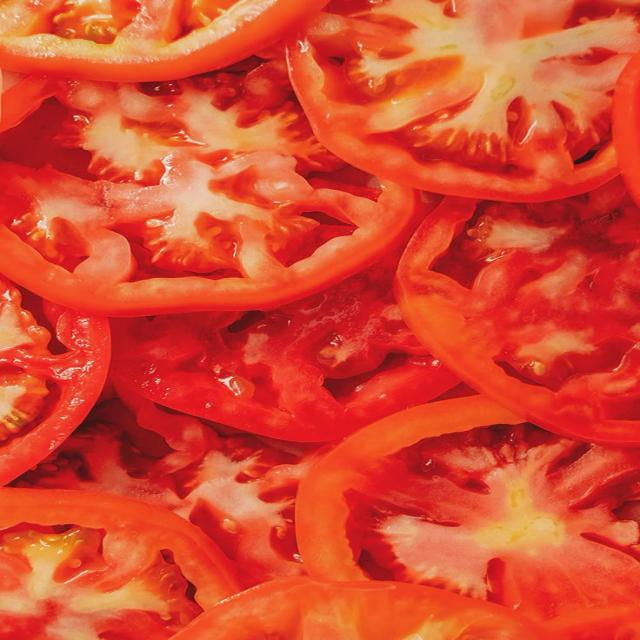sliced_tomato: (0, 62, 427, 315), (296, 396, 639, 619), (289, 0, 639, 201), (113, 254, 458, 441), (399, 179, 639, 444), (14, 394, 315, 584), (0, 488, 239, 639), (0, 0, 326, 81), (175, 578, 547, 639), (0, 279, 110, 484), (613, 53, 639, 202), (0, 71, 53, 131), (546, 605, 639, 639)
